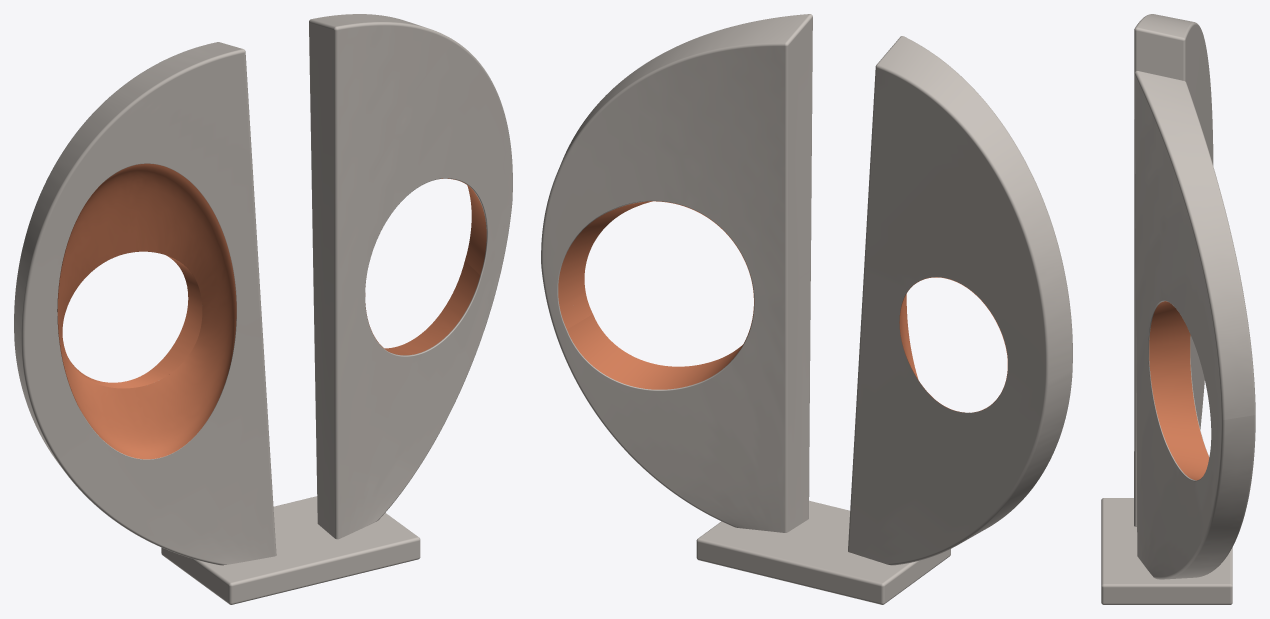
Rendered from preview.glb.
3 renders of one model, left to right at view 1: azimuth 30°, elevation 25°; view 2: azimuth 150°, elevation 25°; view 3: azimuth 270°, elevation 25°, orthographic. The views are drawn at different scales.
Visible parts, largest first — view 1: Layer 02_Paint Metallic Orange peel Rustic Grey #1_0, inside_Paint Metallic Sienna Brown #1_0; view 2: Layer 02_Paint Metallic Orange peel Rustic Grey #1_0, inside_Paint Metallic Sienna Brown #1_0; view 3: Layer 02_Paint Metallic Orange peel Rustic Grey #1_0, inside_Paint Metallic Sienna Brown #1_0.
Part boxes in pixels (bbox=[...]): Layer 02_Paint Metallic Orange peel Rustic Grey #1_0: bbox=[14, 14, 512, 604]; inside_Paint Metallic Sienna Brown #1_0: bbox=[57, 163, 486, 459]; Layer 02_Paint Metallic Orange peel Rustic Grey #1_0: bbox=[541, 14, 1072, 604]; inside_Paint Metallic Sienna Brown #1_0: bbox=[558, 201, 1007, 412]; Layer 02_Paint Metallic Orange peel Rustic Grey #1_0: bbox=[1101, 14, 1255, 604]; inside_Paint Metallic Sienna Brown #1_0: bbox=[1149, 301, 1209, 480].
Size of the model in its own units: 59.08 by 58.94 by 16.35.
